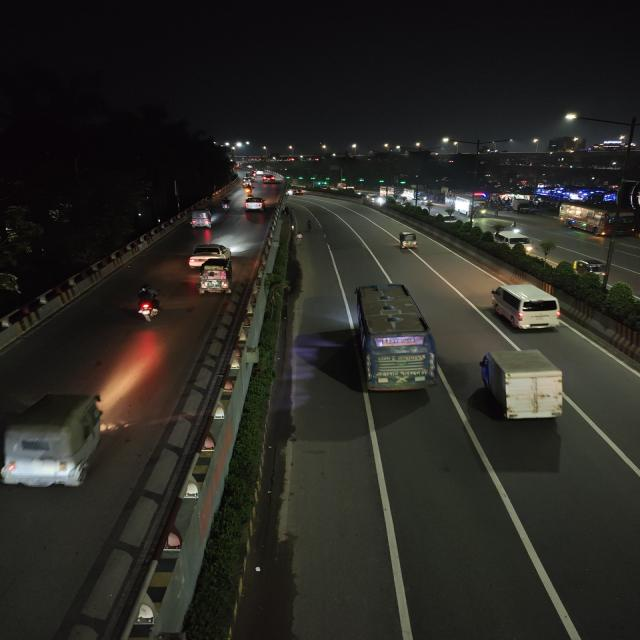bus: (345, 280, 445, 399), (554, 196, 640, 240), (451, 193, 494, 220)
car: (490, 280, 565, 334), (185, 242, 237, 268), (489, 228, 538, 255), (244, 196, 270, 214), (259, 173, 280, 187), (290, 188, 306, 197)
cng: (1, 386, 111, 503), (196, 258, 236, 298), (573, 255, 610, 286), (396, 227, 421, 254), (188, 208, 216, 230)
motorcycle: (133, 287, 164, 321), (222, 195, 232, 212), (243, 184, 256, 195)
pedestrian: (290, 231, 306, 249), (303, 216, 315, 232)
truck: (469, 347, 575, 428)
